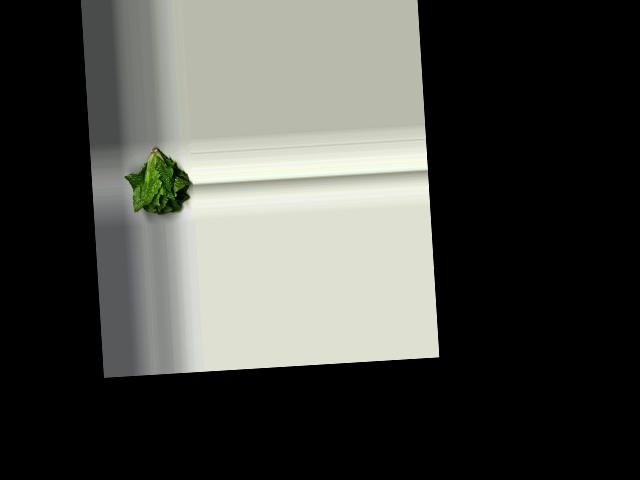lettuce: (124, 140, 196, 219)
